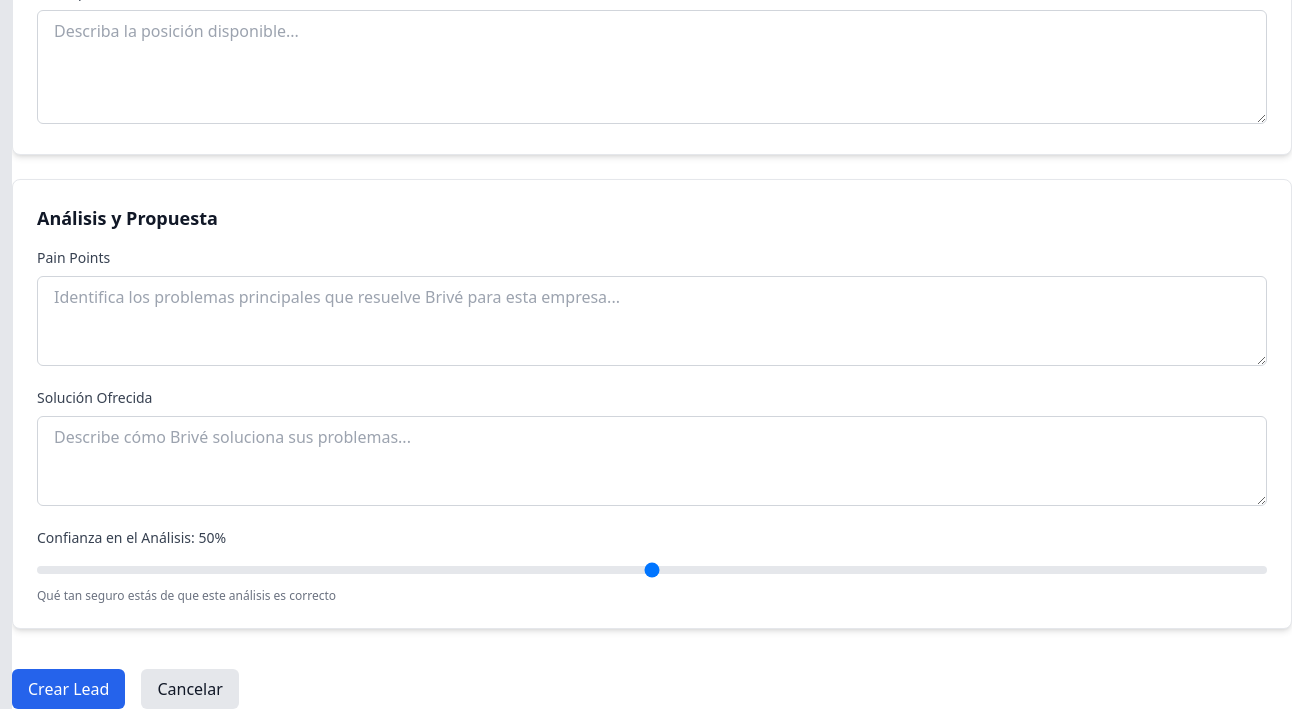
Test case: CreateLeadForm › updates the confidence label when the slider moves
(page scrolled)
Set the slider to "80". click: [1016, 570]
box: [37,566,1267,574]
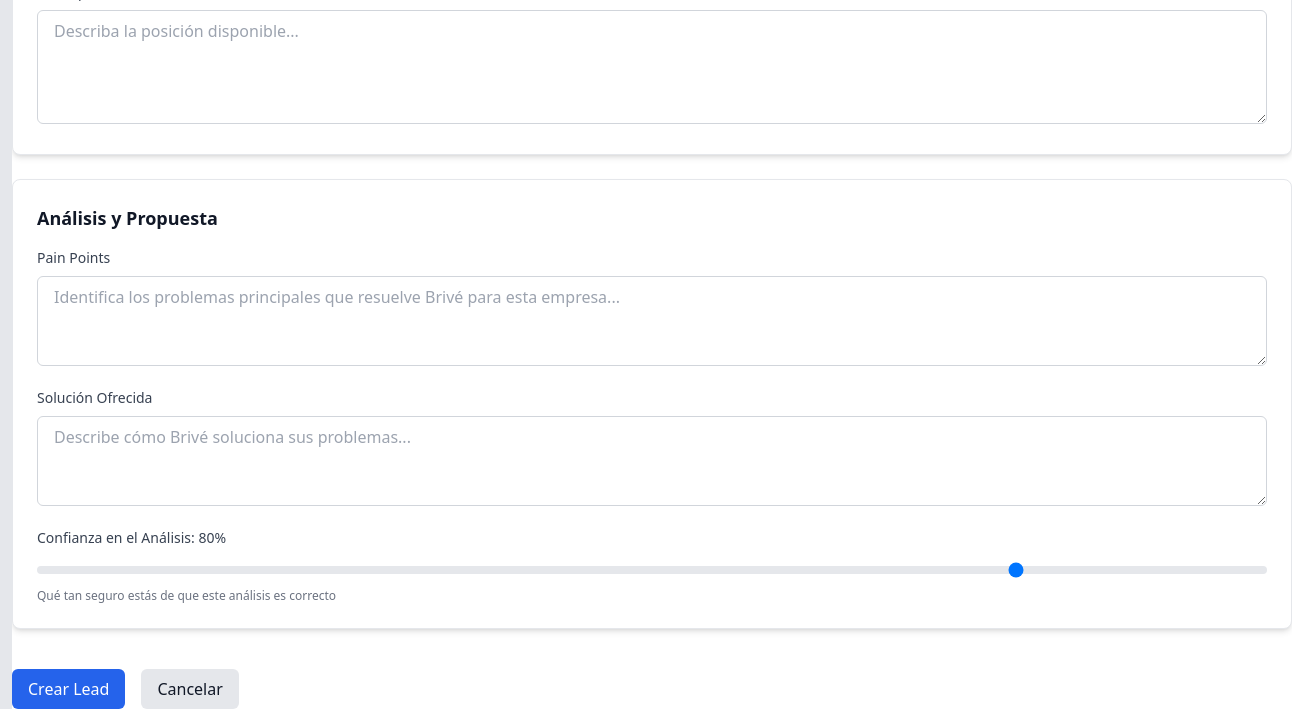
Expected: the text "Confianza en el Análisis: 80%" is shown, [37,528,226,547]
